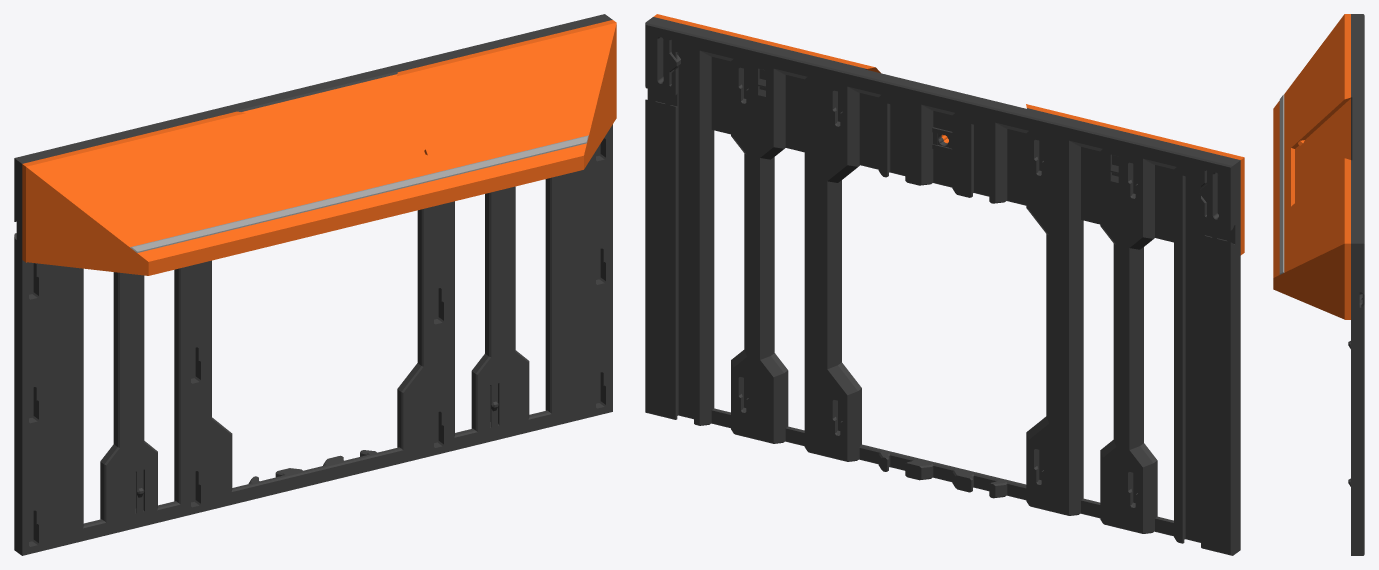
Rendered from Faceplate_ClassicPro_2W-2H.lib.glb.
The picture shows the model from 3 angles, left to right: view 1: azimuth 30°, elevation 25°; view 2: azimuth 150°, elevation 25°; view 3: azimuth 270°, elevation 25°; orthographic projection. The views are drawn at different scales.
Parts seen in each view (by area): view 1: Faceplate_ClassicPro_2W-2H; view 2: Faceplate_ClassicPro_2W-2H; view 3: Faceplate_ClassicPro_2W-2H.
Boxes of the visible parts, x1,y1,x2,y2 form: Faceplate_ClassicPro_2W-2H: (14, 14, 616, 555); Faceplate_ClassicPro_2W-2H: (645, 14, 1244, 555); Faceplate_ClassicPro_2W-2H: (1273, 14, 1364, 555).
Bounding box in the file's own units: 175 × 111 × 29.5.
